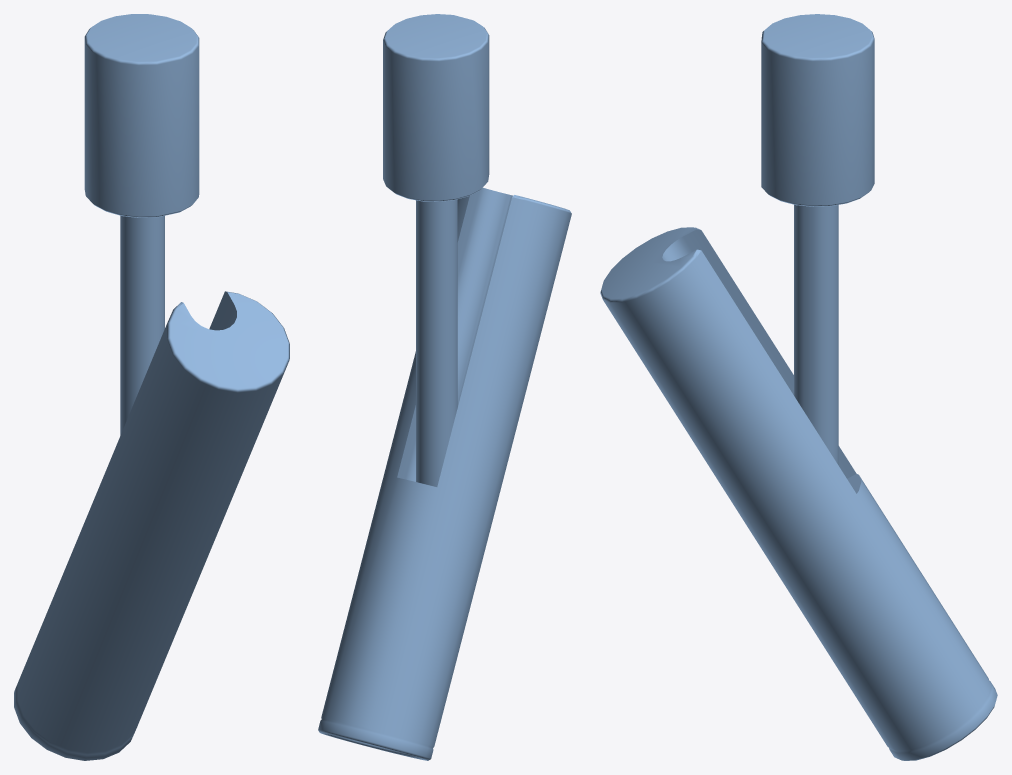
File: SpotLight03.FBX
3 renders of one model, left to right at view 1: azimuth 30°, elevation 25°; view 2: azimuth 150°, elevation 25°; view 3: azimuth 270°, elevation 25°, orthographic. The views are drawn at different scales.
Parts seen in each view (by area): view 1: pCylinder3, Light03:Mesh32; view 2: pCylinder3, Light03:Mesh32; view 3: pCylinder3, Light03:Mesh32.
Part boxes in pixels (bbox=[...]): pCylinder3: bbox=[14, 291, 289, 760]; Light03:Mesh32: bbox=[84, 14, 199, 435]; pCylinder3: bbox=[318, 187, 571, 760]; Light03:Mesh32: bbox=[383, 14, 489, 486]; pCylinder3: bbox=[600, 227, 997, 760]; Light03:Mesh32: bbox=[761, 14, 874, 464].
Size of the model in its own units: 0.052 by 0.3354 by 0.1688.
